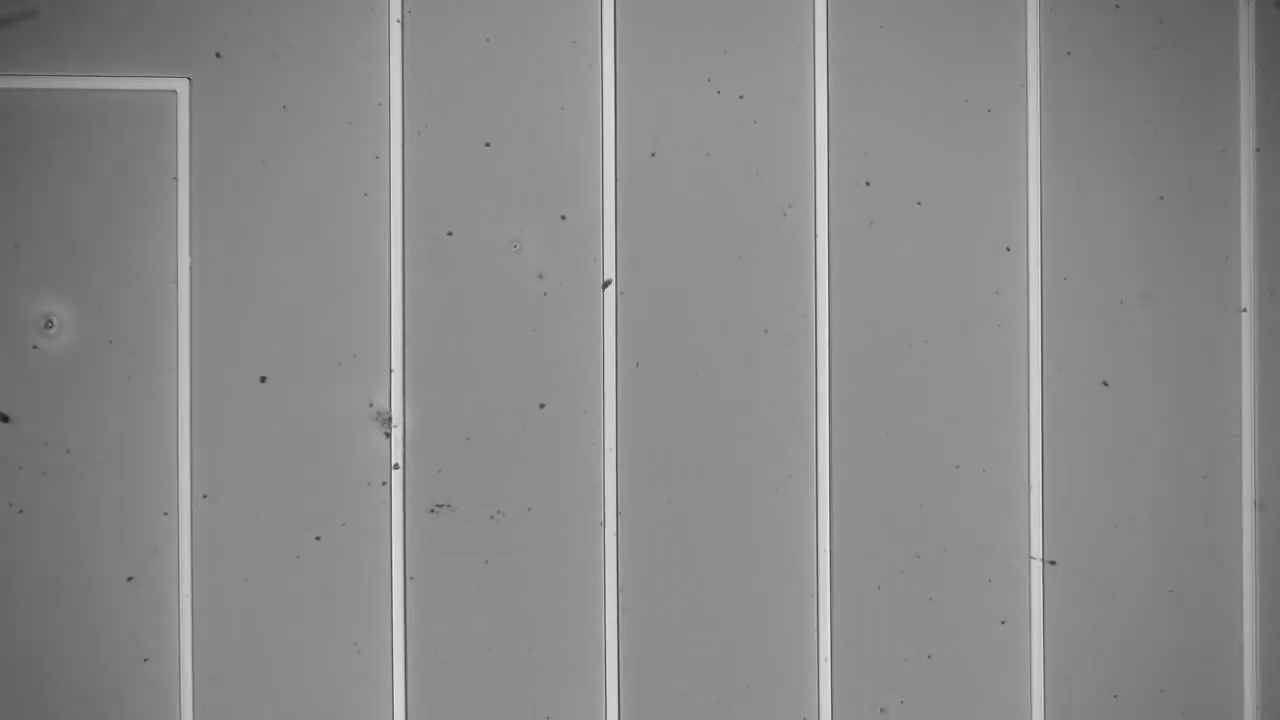stains_enbedded: (596, 271, 623, 294)
